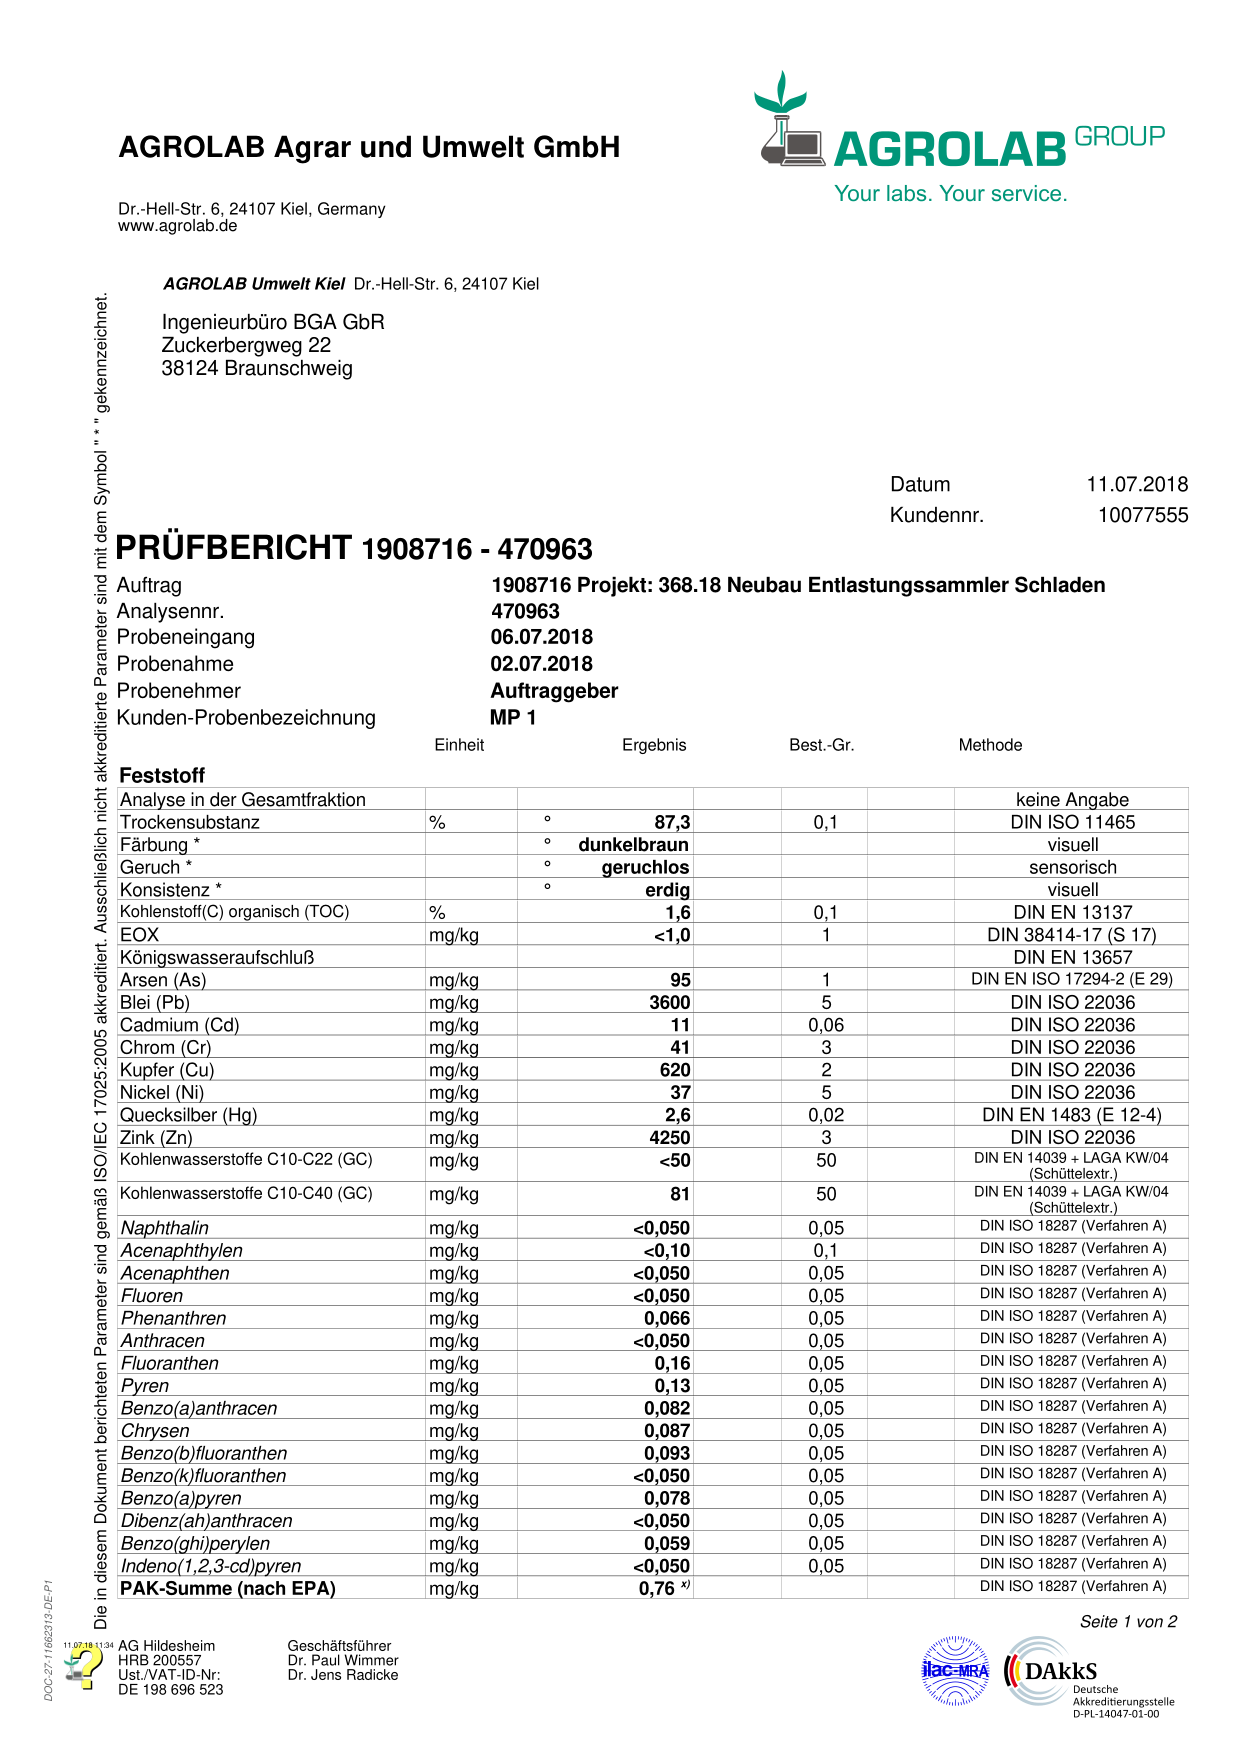table: (110, 763, 1193, 1609)
